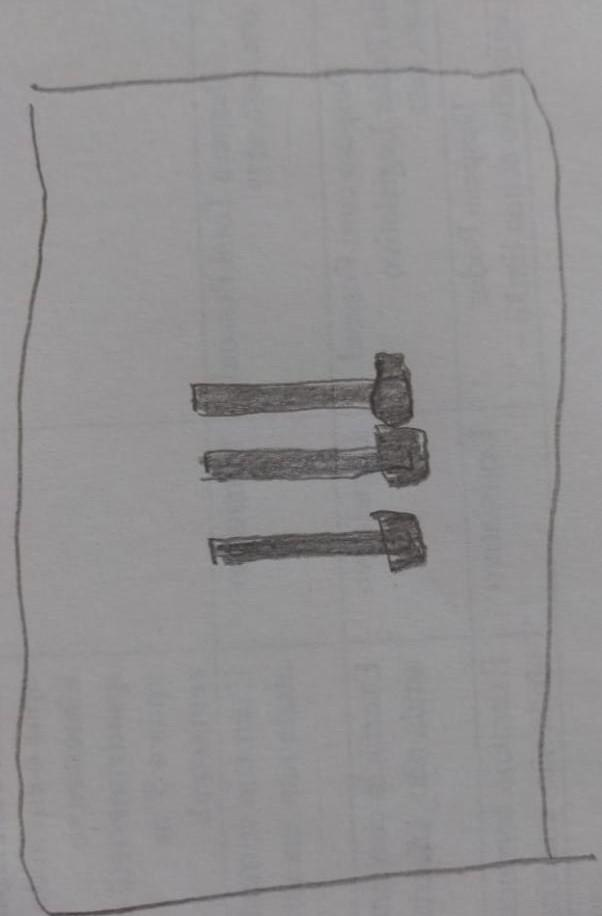Screen: (16, 68, 567, 914)
Slider: (188, 352, 414, 425), (201, 424, 430, 490), (207, 509, 428, 572)
